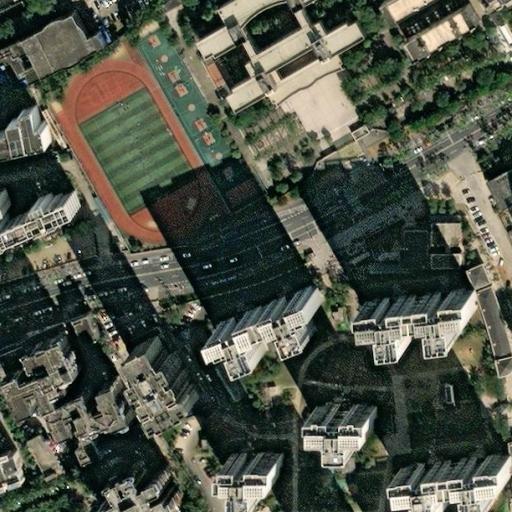building: (191, 0, 361, 105), (6, 334, 131, 455), (214, 286, 321, 360), (362, 288, 476, 343), (136, 334, 205, 420), (462, 266, 512, 380), (11, 13, 103, 72), (401, 456, 509, 506), (398, 3, 476, 65), (0, 184, 76, 241), (103, 469, 182, 512), (0, 325, 63, 370), (315, 403, 376, 448), (225, 453, 278, 499), (24, 435, 62, 487), (126, 328, 173, 370), (0, 108, 38, 156), (432, 227, 461, 272), (0, 41, 26, 90), (398, 234, 427, 271), (486, 170, 512, 211), (66, 310, 91, 341), (0, 450, 18, 487), (340, 123, 361, 142)
